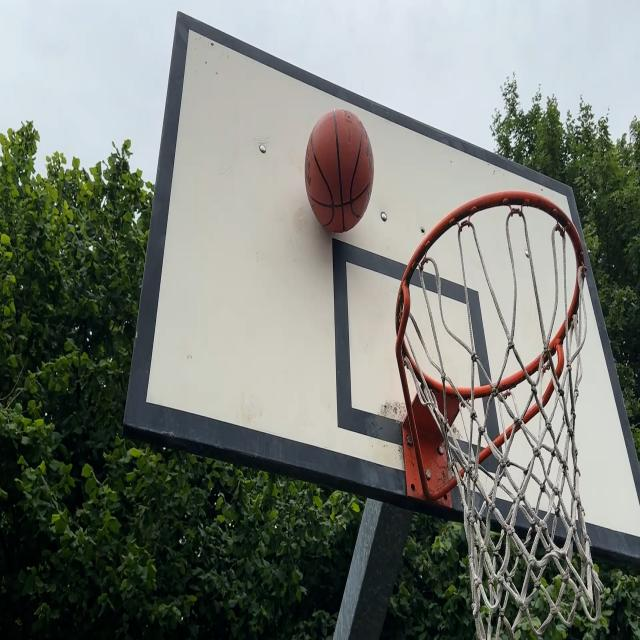rebound_hit: (306, 106, 376, 239)
